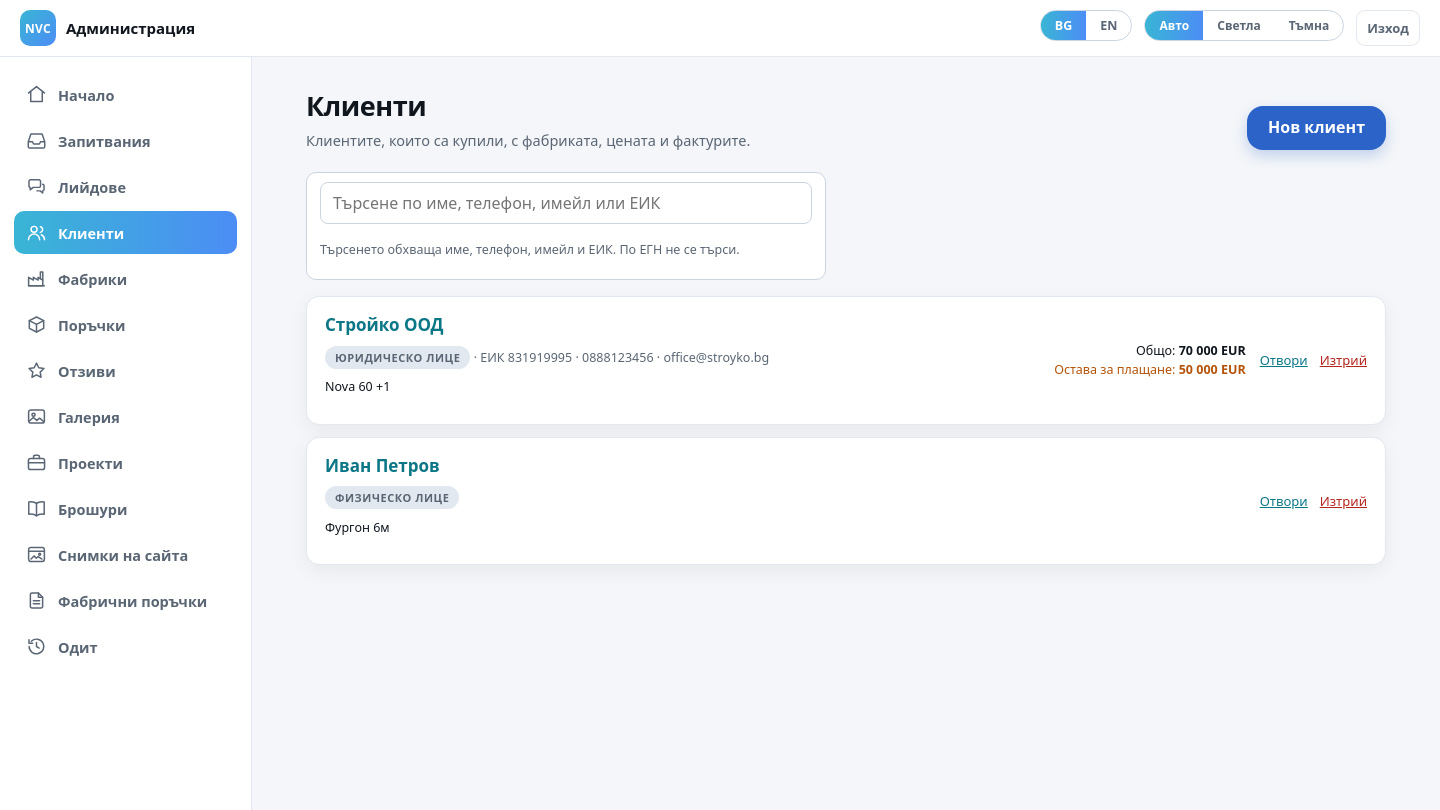
Test: AdminCustomersPage › takes the second payment off what is left, and says so when nothing is
This screenshot has width=1440, height=810.
Click the button "Стройко ООД" at (384, 324), box top-left (325, 313), bottom-right (444, 336)
(page scrolled)
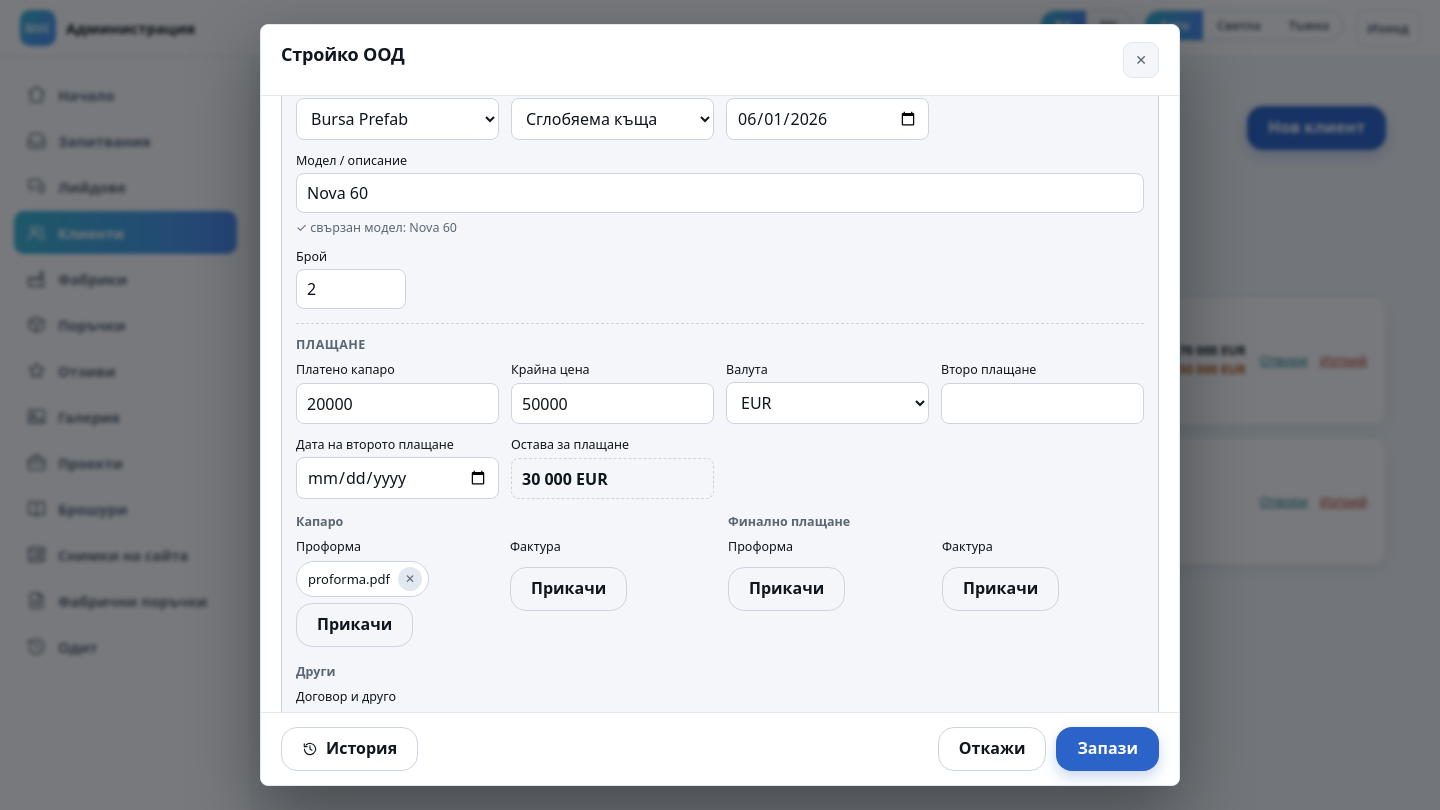
Type "10000" into the field labelled "Второ плащане" at (1042, 404), box top-left (941, 383), bottom-right (1144, 424)
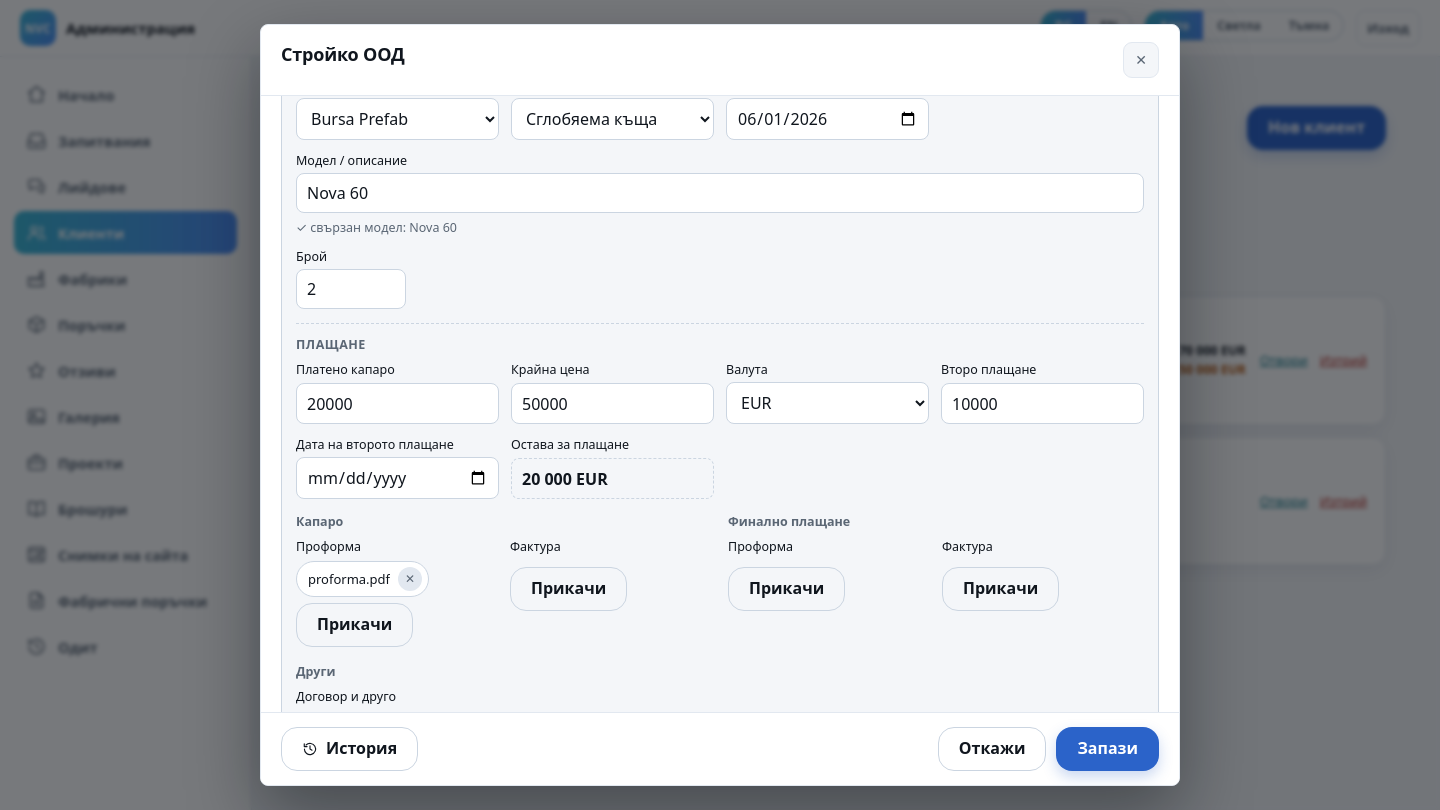
Expected: the text "Платено изцяло" is not shown
Result: the text "20 000 EUR" is shown at top-left (511, 458), bottom-right (714, 499)
Replace the text in the field labelled "Второ плащане" with "30000" at (1042, 404), box top-left (941, 383), bottom-right (1144, 424)
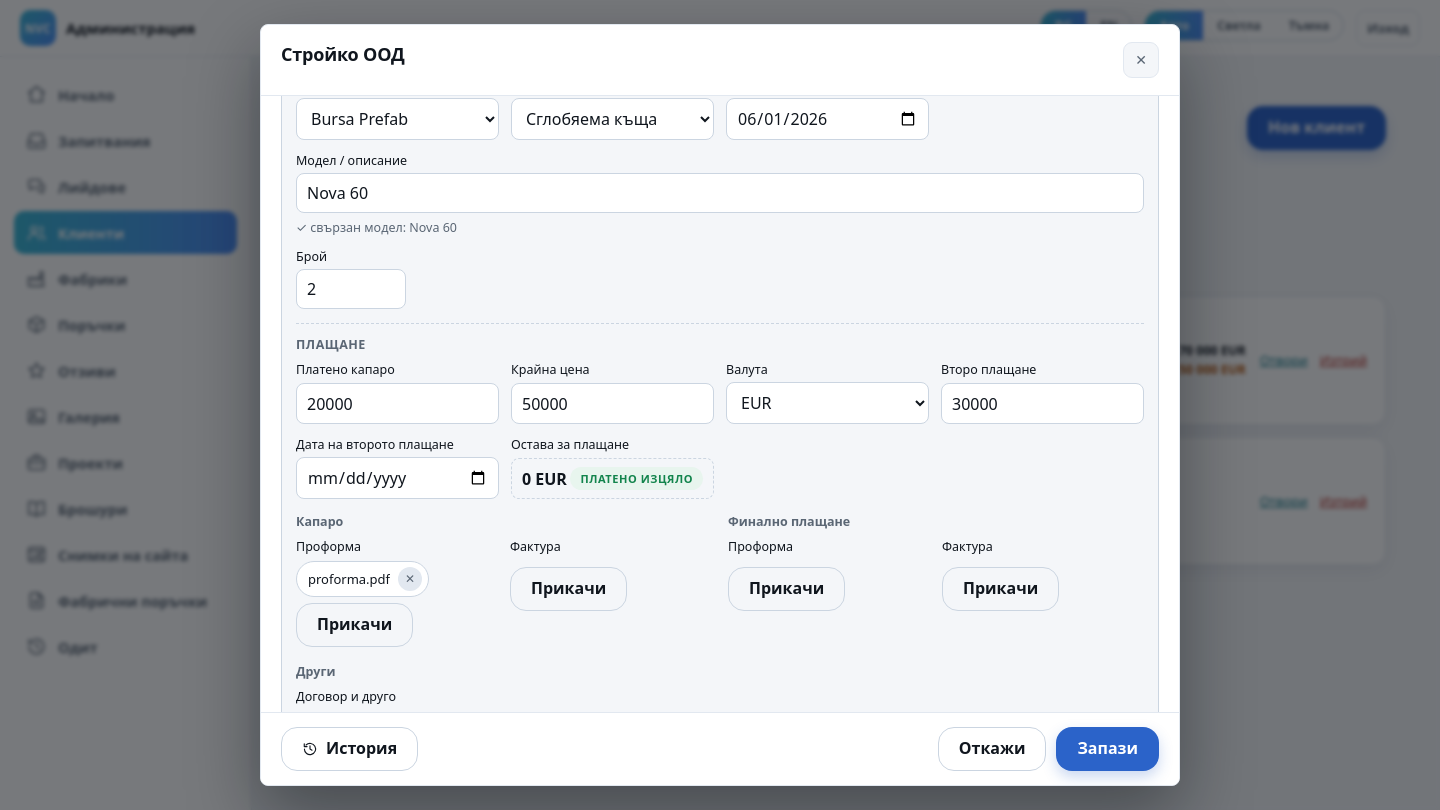
Result: the text "Платено изцяло" is shown at top-left (570, 467), bottom-right (703, 490)
Result: the element showing "0 EUR Платено изцяло" is shown at top-left (511, 458), bottom-right (714, 499)
